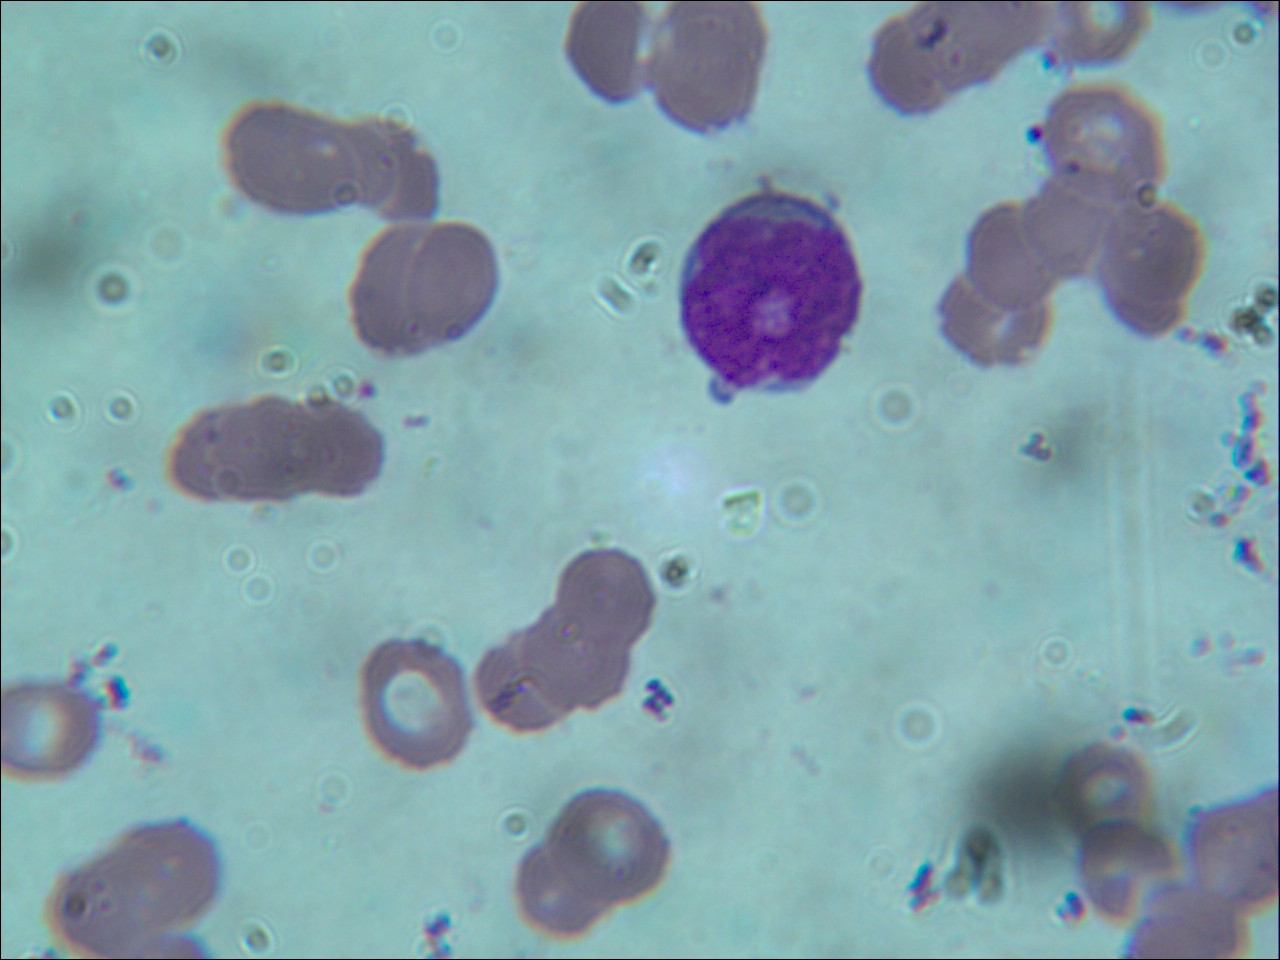Eritrosit: (1043, 84, 1173, 206), (211, 102, 350, 215), (359, 637, 474, 764), (1099, 206, 1209, 337), (645, 17, 756, 139), (100, 824, 224, 931), (558, 787, 671, 899), (211, 396, 323, 506), (349, 230, 449, 353), (333, 111, 439, 225), (940, 275, 1058, 375), (53, 861, 168, 960), (406, 224, 500, 344), (277, 399, 386, 502), (525, 611, 631, 715), (959, 199, 1056, 312), (1, 672, 99, 783), (159, 412, 270, 508), (467, 642, 570, 743), (1078, 819, 1175, 924), (909, 1, 1020, 92), (561, 1, 655, 108), (1012, 178, 1112, 278), (1190, 800, 1280, 909), (868, 14, 962, 114), (559, 550, 653, 643), (518, 836, 605, 936), (1059, 744, 1150, 839), (1143, 889, 1242, 960)
Limfoblast: (673, 190, 870, 393)
Platelet: (100, 464, 140, 500), (58, 655, 92, 693), (696, 581, 731, 612), (1121, 699, 1153, 731), (1023, 114, 1049, 147), (403, 408, 433, 437), (349, 380, 380, 405), (93, 640, 118, 667), (108, 680, 127, 706), (1067, 156, 1087, 179)
